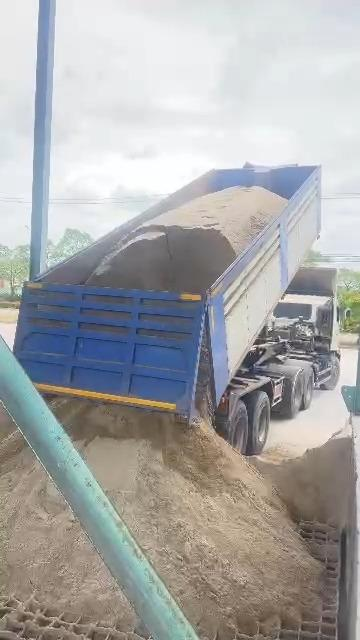sand: (54, 400, 321, 639), (60, 401, 320, 639), (0, 433, 135, 631), (0, 448, 135, 630), (87, 187, 286, 292), (88, 188, 285, 292), (254, 434, 353, 529), (0, 406, 15, 442)
